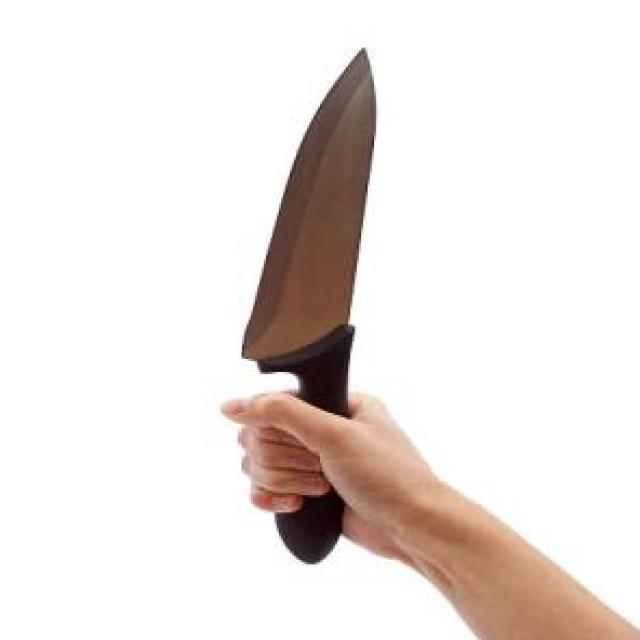knife: (240, 35, 383, 587)
